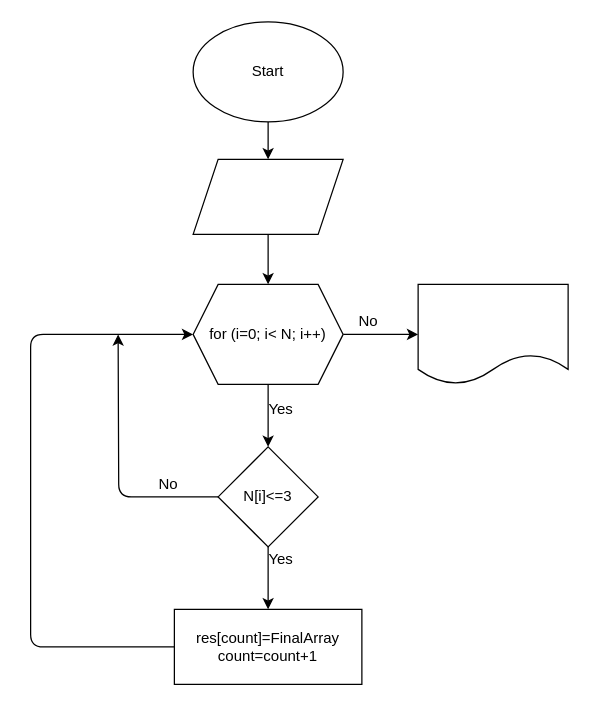
Image size: 590x706. Some labels were removed from this diagram. The shapes that lost their labels are listed below. From the top down, each one's centre as x and y in pixels, then its label:
the point at 267,196: Array, N count=0
the point at 492,333: print (res[count])
